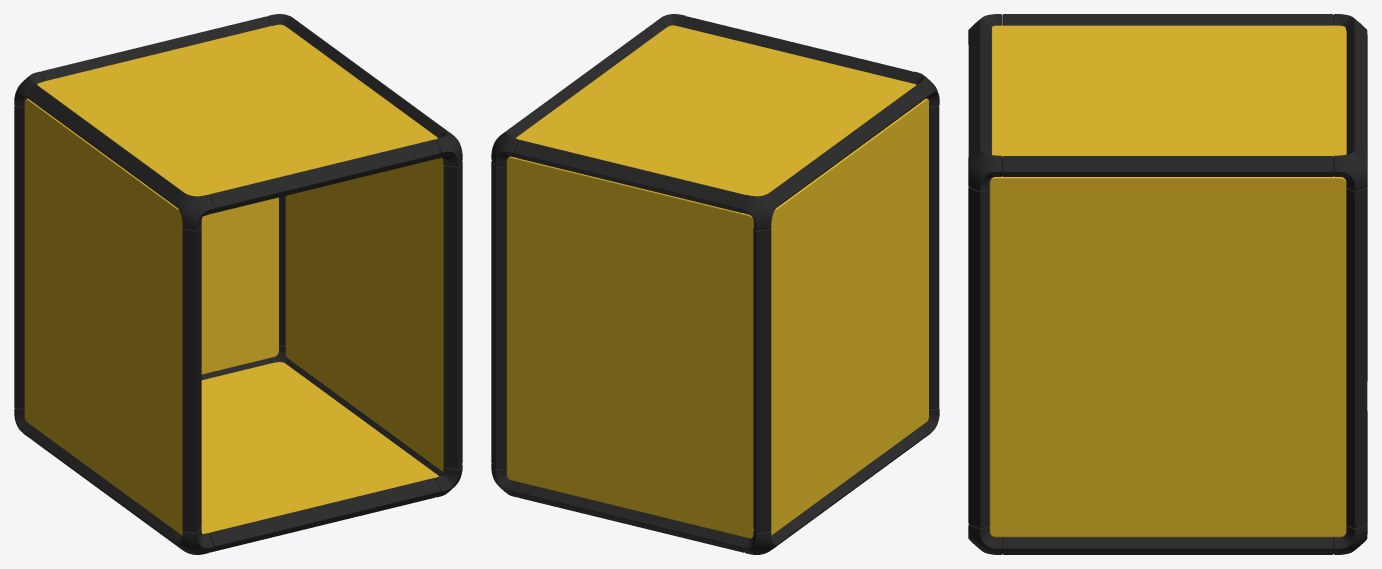
3 renders of one model, left to right at view 1: azimuth 30°, elevation 25°; view 2: azimuth 150°, elevation 25°; view 3: azimuth 270°, elevation 25°, orthographic. The views are drawn at different scales.
Visible parts, largest first — view 1: 329x374x420; view 2: 329x374x420; view 3: 329x374x420.
Boxes of the visible parts, <box> form: 329x374x420: <box>14,14,462,554</box>; 329x374x420: <box>491,14,939,554</box>; 329x374x420: <box>968,14,1367,554</box>.
Bounding box in the file's own units: 0.4067 × 0.4976 × 0.4512.
